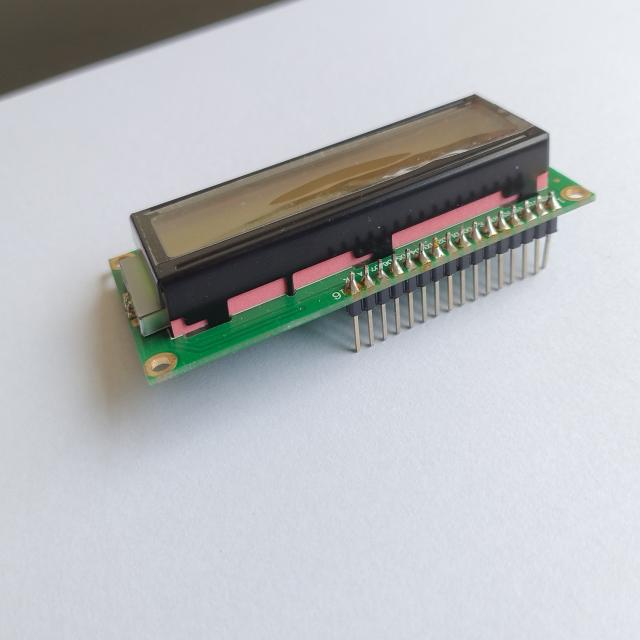lcd: (107, 91, 595, 386)
